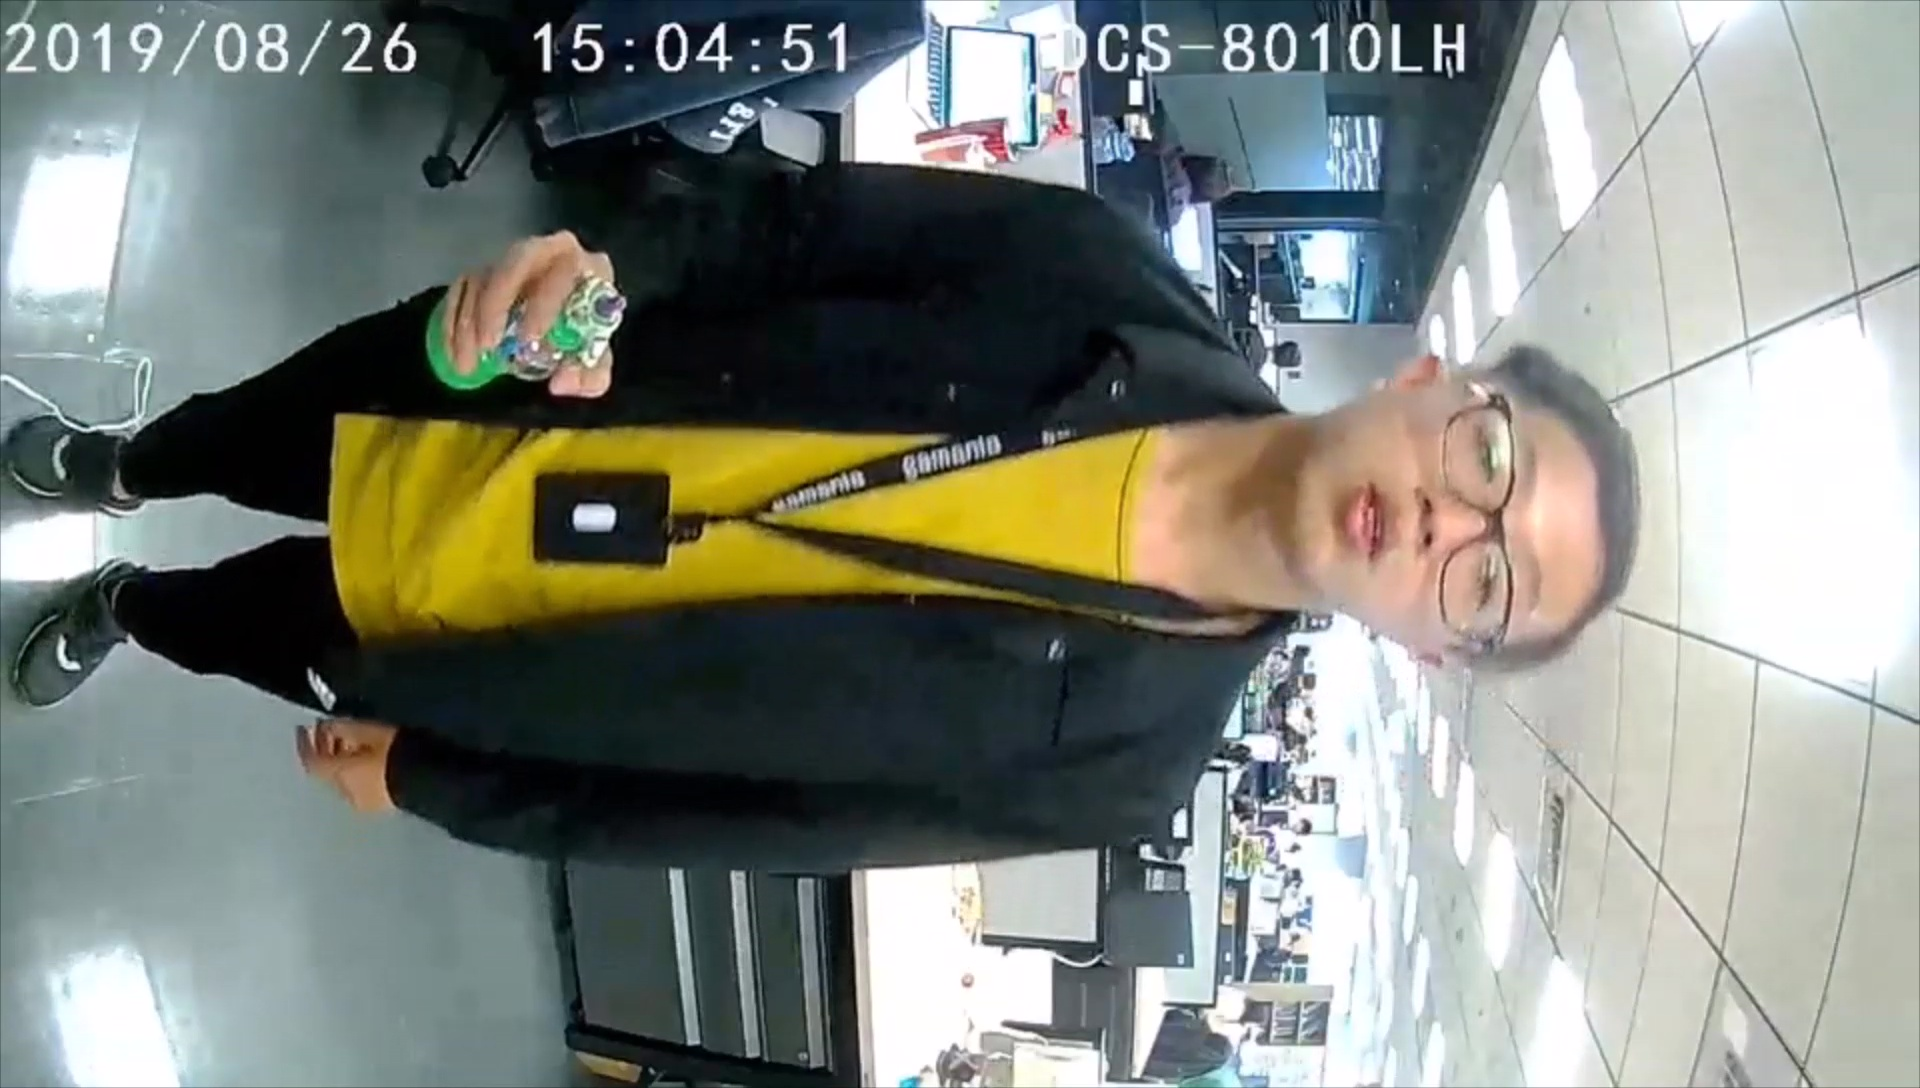buzz: (423, 273, 632, 397)
